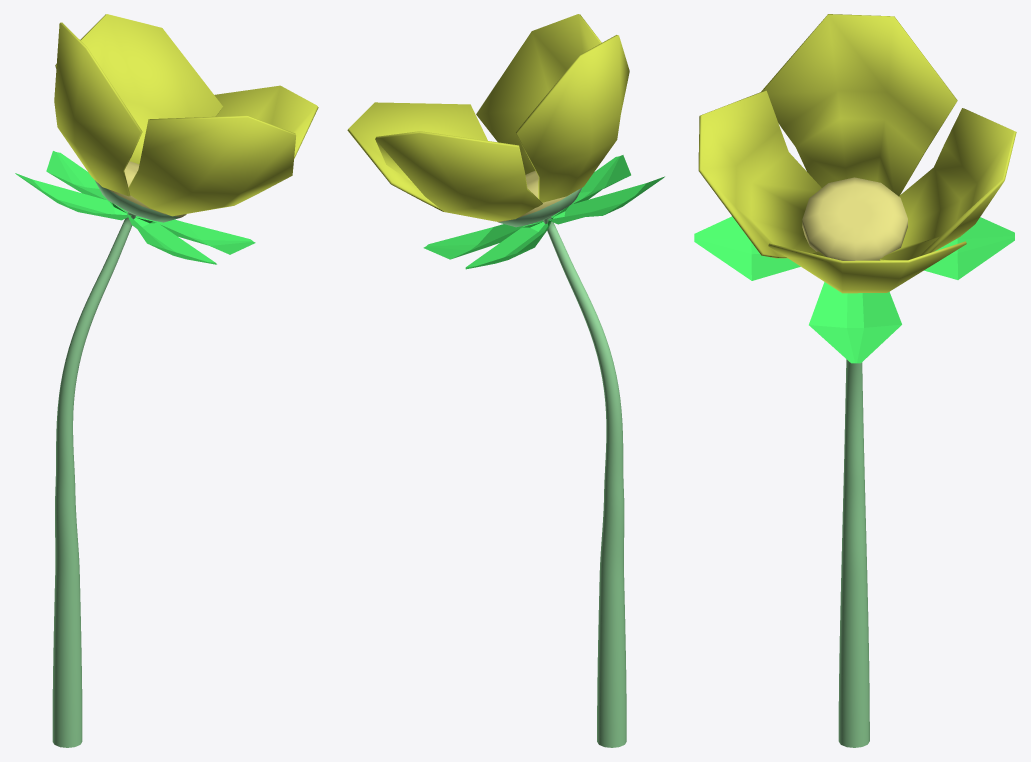
Rendered from Flower-1.fbx.
3 renders of one model, left to right at view 1: azimuth 30°, elevation 25°; view 2: azimuth 150°, elevation 25°; view 3: azimuth 270°, elevation 25°, orthographic. The views are drawn at different scales.
Visible parts, largest first — view 1: Plane.002, Plane.025, Plane.028; view 2: Plane.002, Plane.025, Plane.028; view 3: Plane.002, Plane.025, Plane.028.
Part boxes in pixels (<box>): Plane.002: <box>54,14,318,216</box>; Plane.025: <box>52,161,186,747</box>; Plane.028: <box>15,151,255,264</box>; Plane.002: <box>347,14,629,221</box>; Plane.025: <box>497,171,626,747</box>; Plane.028: <box>423,155,664,269</box>; Plane.002: <box>698,14,1016,293</box>; Plane.025: <box>802,177,907,747</box>; Plane.028: <box>694,216,1014,363</box>.
Bounding box in the file's own units: 2.14 × 2.36 × 5.34.
